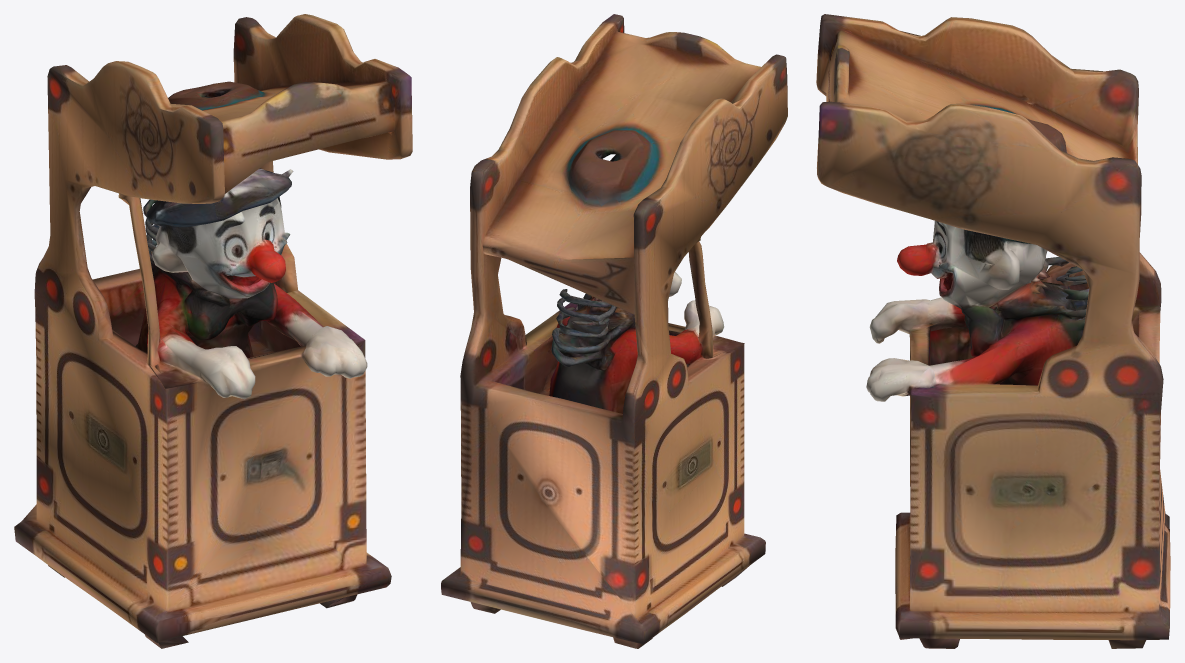
Rendered from jackbox.glb.
The picture shows the model from 3 angles, left to right: view 1: azimuth 30°, elevation 25°; view 2: azimuth 150°, elevation 25°; view 3: azimuth 270°, elevation 25°; orthographic projection. The views are drawn at different scales.
Visible parts, largest first — view 1: Mesh_0; view 2: Mesh_0; view 3: Mesh_0.
Part boxes in pixels (x1,y1,x2,y2): Mesh_0: (14,14,412,648); Mesh_0: (441,14,787,648); Mesh_0: (816,14,1170,648).
Bounding box in the file's own units: 0.8671 × 2 × 1.17.
1 material, 1 textured.
